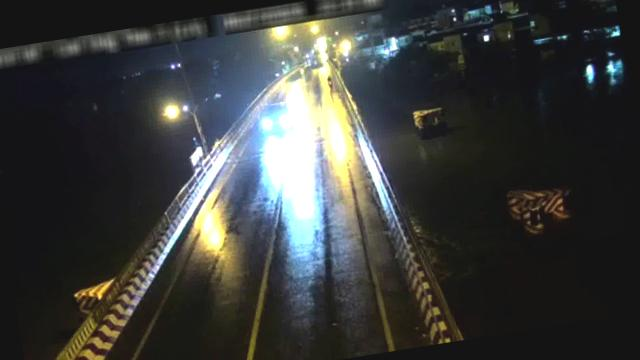Car: (258, 102, 292, 134)
